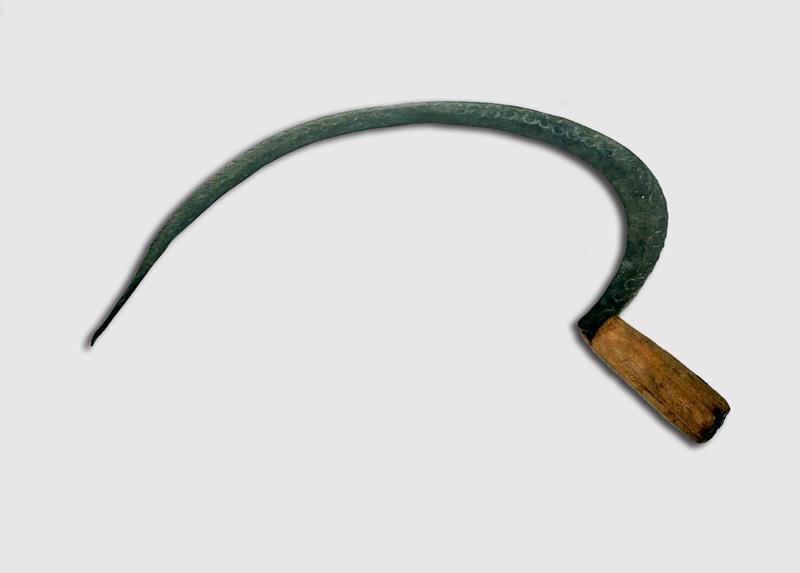foice: (76, 102, 726, 444)
